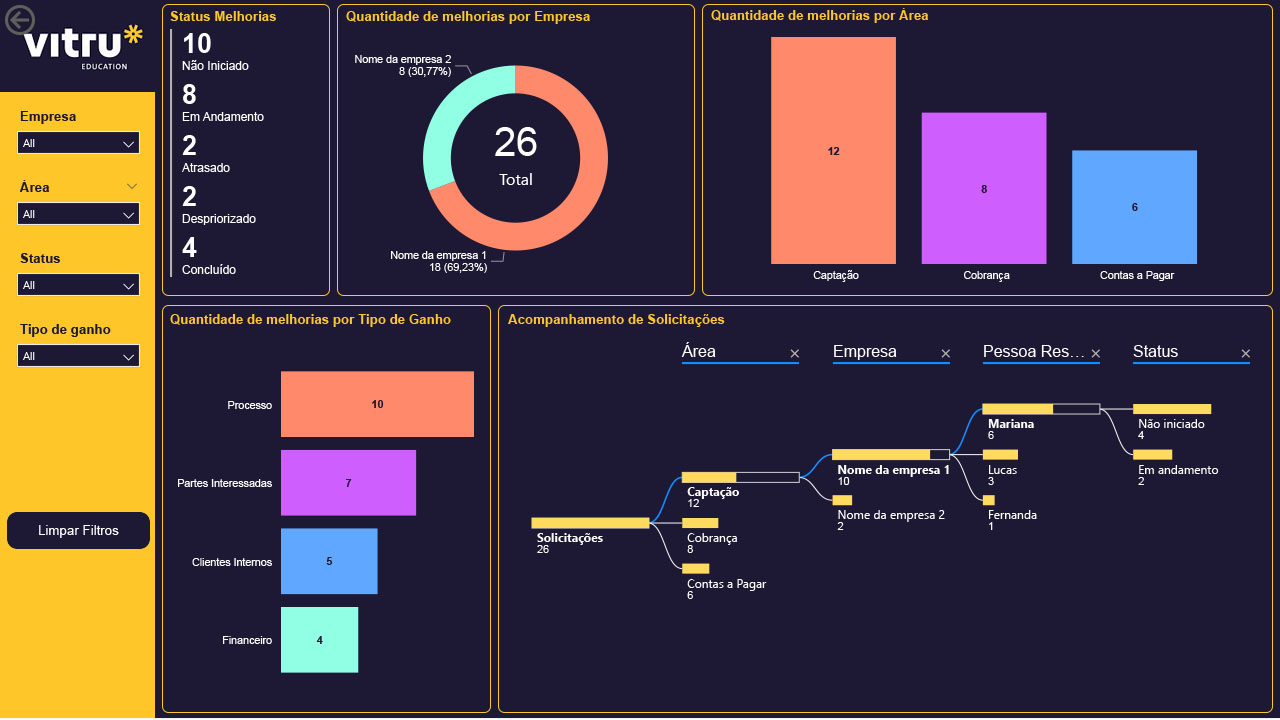

Layout of this report page (visuals, bound fields, positions):
{"tool":"powerbi","page":{"name":"Page 1","canvas":[1280,720],"ordinal":0},"visuals":[{"type":"actionButton","box":[0,0,100,40],"z":0},{"type":"multiRowCard","title":"Status Melhorias","fields":{"Values":["Medidas.nao_iniciado","Medidas.em_andamento","Medidas.atrasado","Medidas.despriorizado","Medidas.concluido"]},"box":[165,9,153,281],"z":1000},{"type":"donutChart","title":"Quantidade de melhorias por Empresa","fields":{"Y":["Backlog.Empresa"],"Category":["Backlog.Empresa"]},"box":[341,9,349,283],"z":2000},{"type":"barChart","title":"Quantidade de melhorias por Tipo de Ganho","fields":{"Y":["Medidas.qtde_melhorias"],"Category":["Backlog.Tipo de ganho"],"Series":["Backlog.Tipo de ganho"]},"box":[165,312,314,399],"z":3000},{"type":"decompositionTreeVisual","title":"Acompanhamento de Solicitações","fields":{"Analyze":["Medidas.qtde_melhorias"],"ExplainBy":["Backlog.Área","Backlog.Empresa","Backlog.Pessoa Responsável - GS","Backlog.Status"]},"box":[503,312,764,399],"z":4000},{"type":"columnChart","title":"Quantidade de melhorias por Área","fields":{"Category":["Backlog.Área"],"Y":["Backlog.Área"],"Series":["Backlog.Área"]},"box":[706,8,561,282],"z":5000},{"type":"card","fields":{"Values":["Medidas.qtde_melhorias"]},"box":[466,102,100,98],"z":6000},{"type":"slicer","fields":{"Values":["Backlog.Empresa"]},"box":[7,104,143,71],"z":7000},{"type":"slicer","fields":{"Values":["Backlog.Área"]},"box":[7,175,143,71],"z":8000},{"type":"slicer","fields":{"Values":["Backlog.Status"]},"box":[7,246,143,71],"z":9000},{"type":"slicer","fields":{"Values":["Backlog.Tipo de ganho"]},"box":[7,317,143,71],"z":10000},{"type":"actionButton","box":[7,512,143,37],"z":11000}]}

Visuals, with their boxes in screenshot pixels (x1, y1, x2, y2), scaled from the page's 1280x720 canvas onto the 1280x720 screenshot:
actionButton: x1=0 y1=0 x2=100 y2=40
"Status Melhorias" multiRowCard: x1=165 y1=9 x2=318 y2=290
"Quantidade de melhorias por Empresa" donutChart: x1=341 y1=9 x2=690 y2=292
"Quantidade de melhorias por Tipo de Ganho" barChart: x1=165 y1=312 x2=479 y2=711
"Acompanhamento de Solicitações" decompositionTreeVisual: x1=503 y1=312 x2=1267 y2=711
"Quantidade de melhorias por Área" columnChart: x1=706 y1=8 x2=1267 y2=290
card - Medidas.qtde_melhorias: x1=466 y1=102 x2=566 y2=200
slicer - Backlog.Empresa: x1=7 y1=104 x2=150 y2=175
slicer - Backlog.Área: x1=7 y1=175 x2=150 y2=246
slicer - Backlog.Status: x1=7 y1=246 x2=150 y2=317
slicer - Backlog.Tipo de ganho: x1=7 y1=317 x2=150 y2=388
actionButton: x1=7 y1=512 x2=150 y2=549
